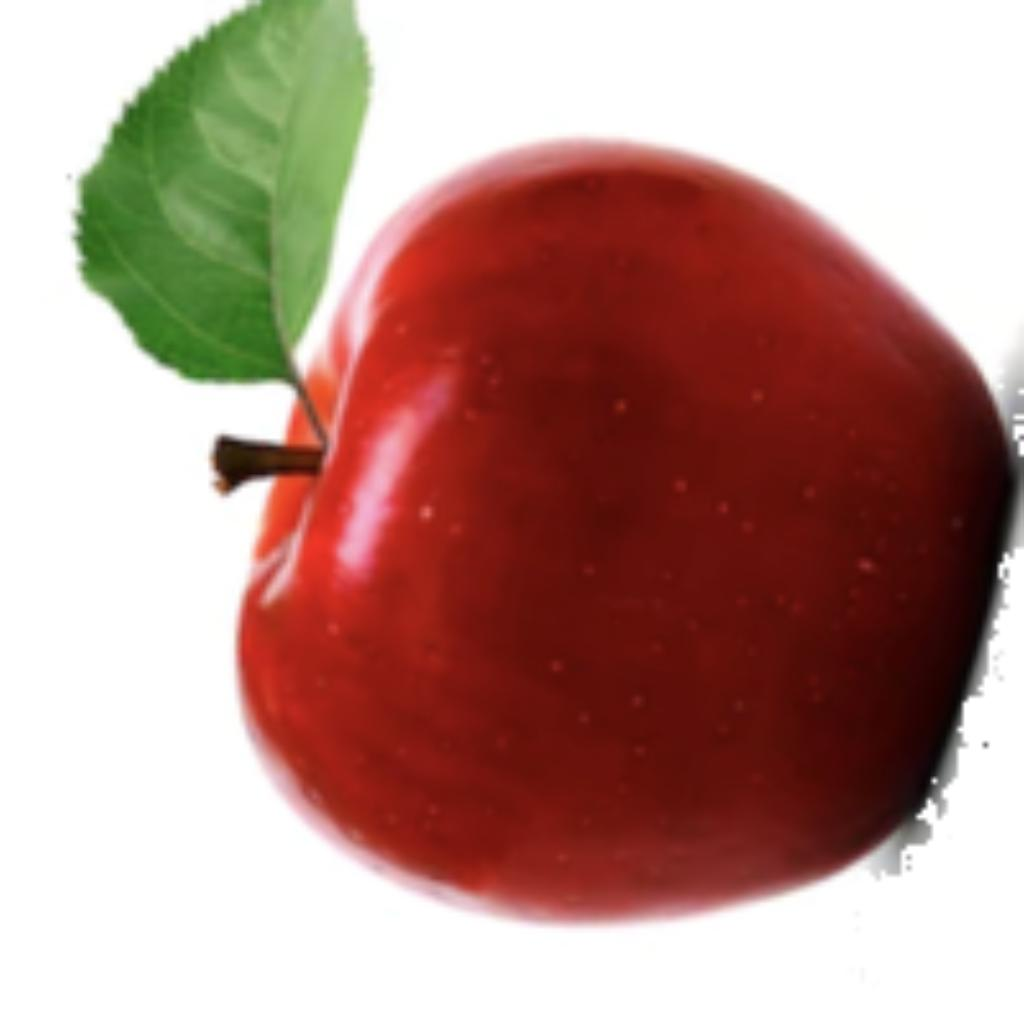apple: (61, 0, 1019, 932)
